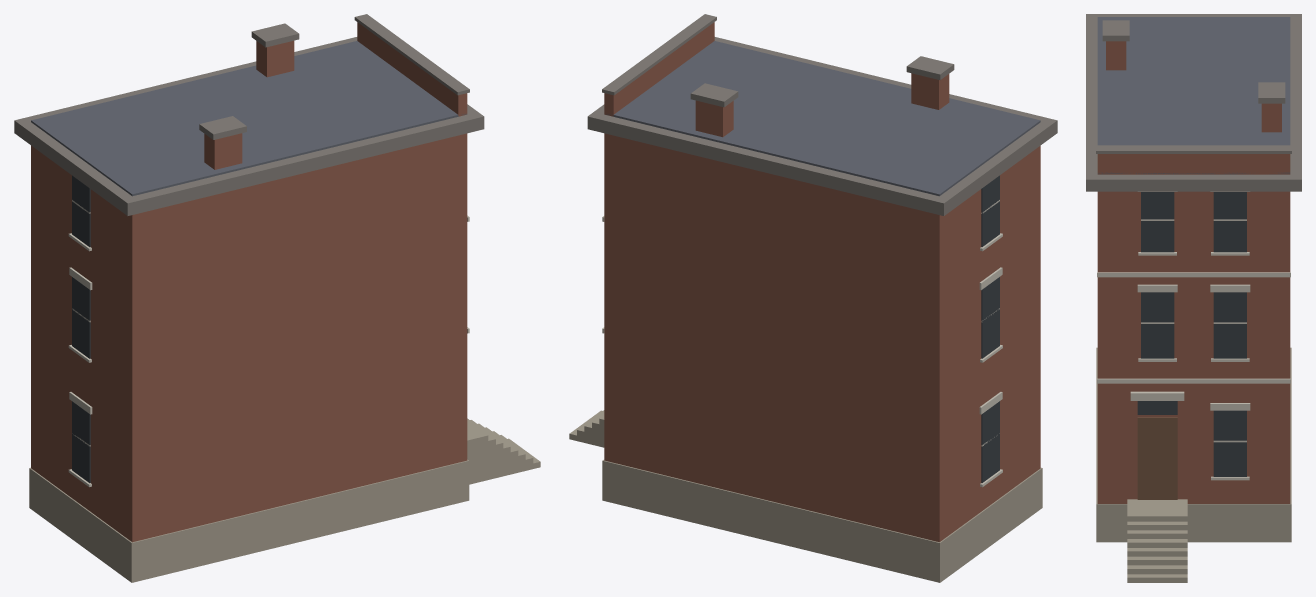
Rendered from house_215_e20th__draft_1904.glb.
3 renders of one model, left to right at view 1: azimuth 30°, elevation 25°; view 2: azimuth 150°, elevation 25°; view 3: azimuth 270°, elevation 25°, orthographic. The views are drawn at different scales.
Visible parts, largest first — view 1: house_215_e20th__draft_1904; view 2: house_215_e20th__draft_1904; view 3: house_215_e20th__draft_1904.
Part boxes in pixels (left/top/right/bottom): house_215_e20th__draft_1904: left=14, top=14, right=540, bottom=582; house_215_e20th__draft_1904: left=569, top=14, right=1057, bottom=582; house_215_e20th__draft_1904: left=1086, top=14, right=1301, bottom=582.
Bounding box in the file's own units: 14.26 × 13.34 × 6.45.
